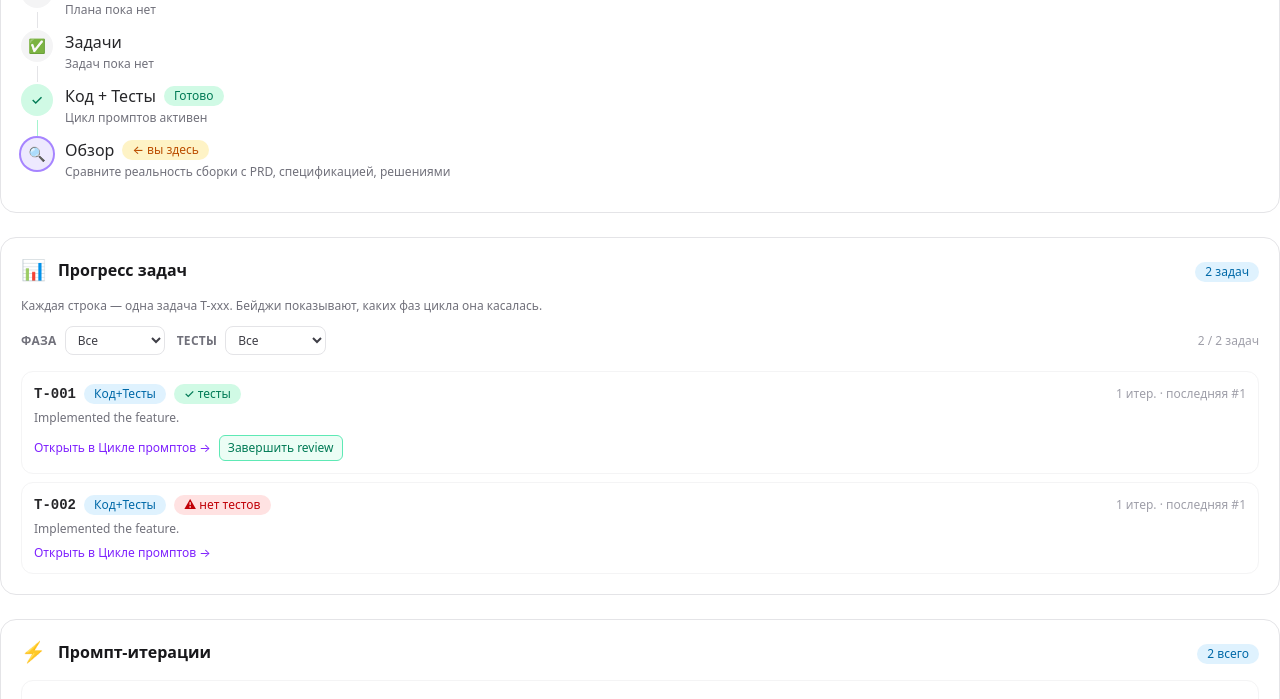
B. TaskProgressPanel — filter interactivity › selecting "has_tests" test filter shows only tasks with tests
(page scrolled)
Step 1. Select "Есть тесты" in the 2nd dropdown → (276, 340), box [225,326,326,355]
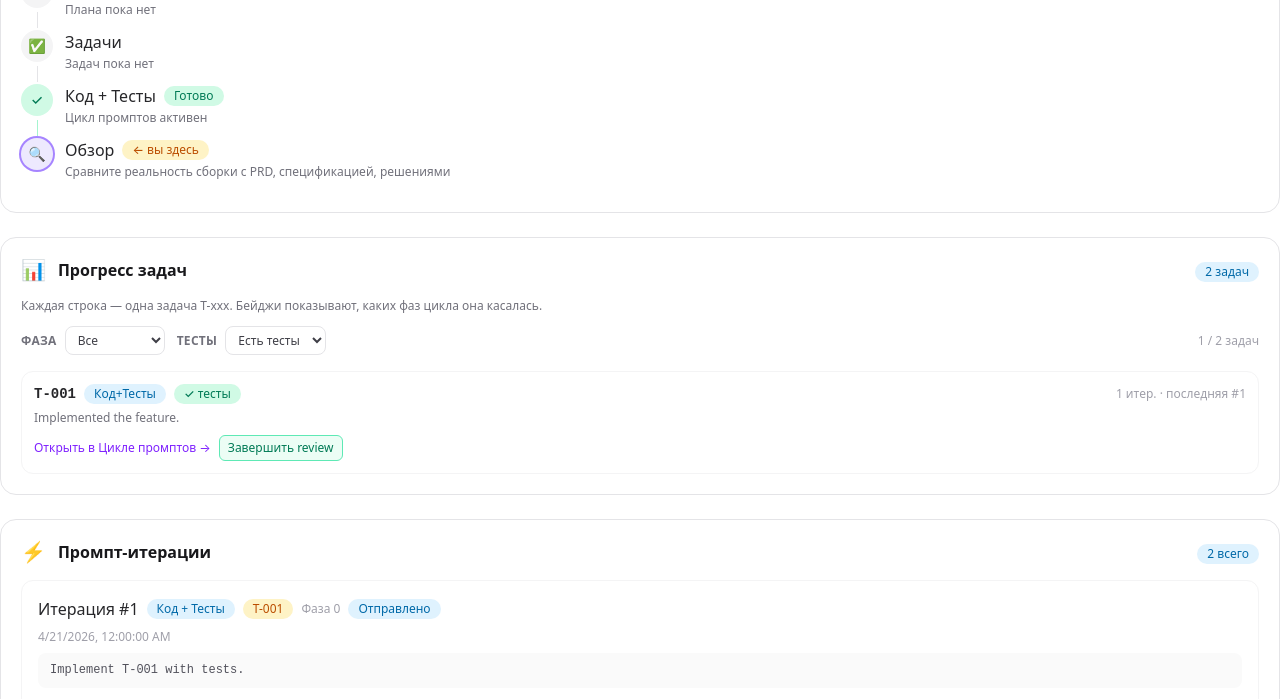
Expected: the text "1 / 2 задач" is shown, [1198,332,1259,348]
